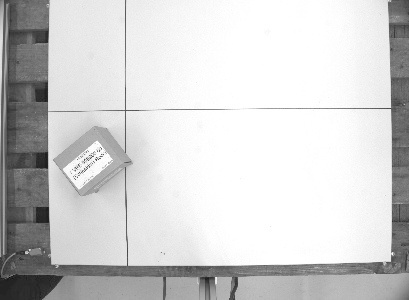b5: (49, 122, 137, 201)
